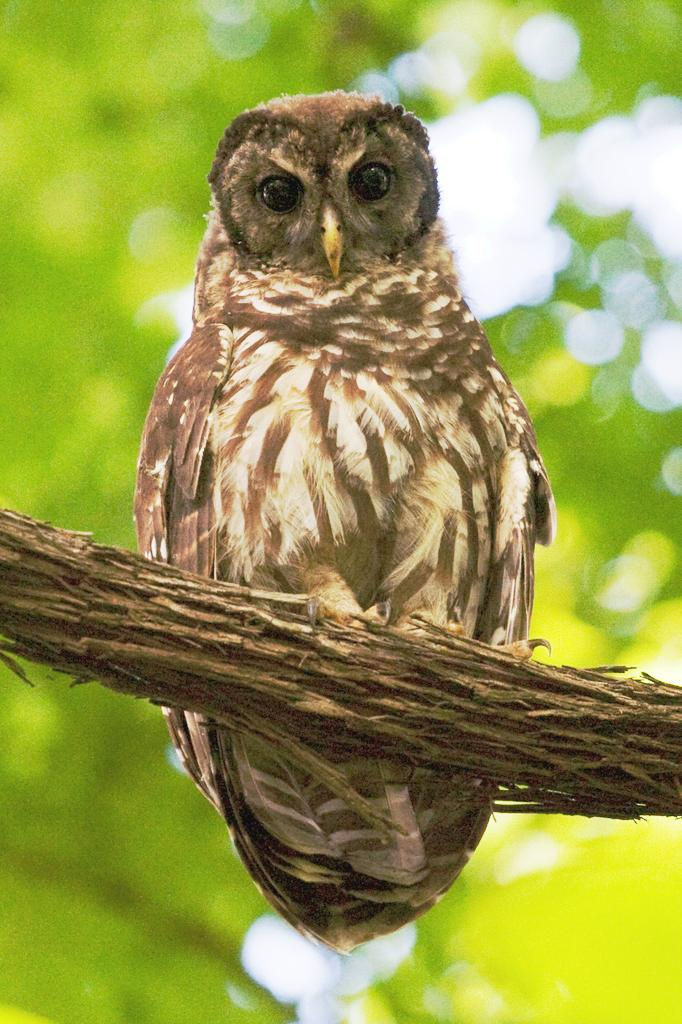Owl: (130, 83, 548, 970)
